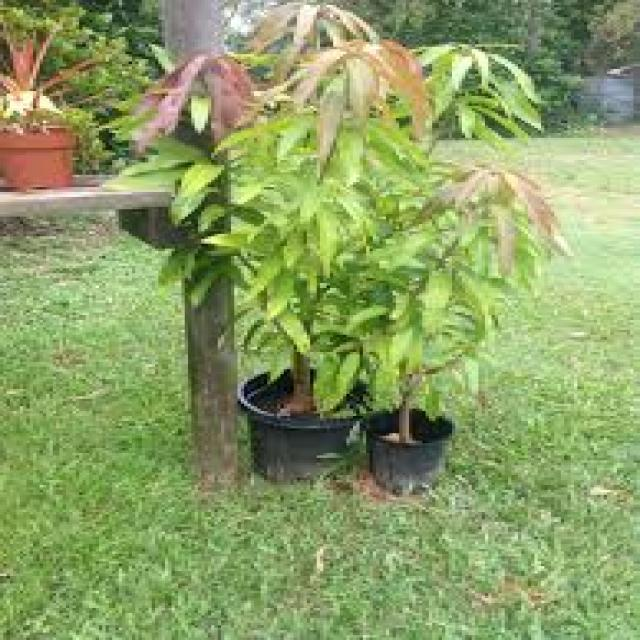Tree: (119, 9, 518, 533)
